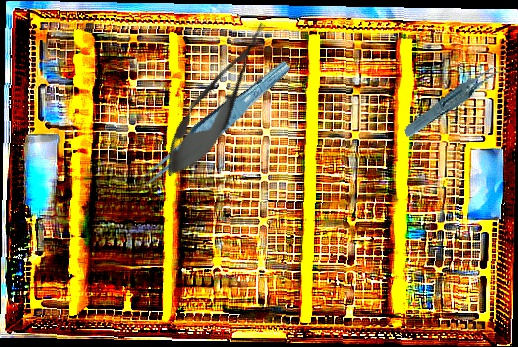Micro Scissor: (152, 12, 283, 189)
Tissue Forceps: (125, 59, 300, 193), (394, 63, 517, 139)
